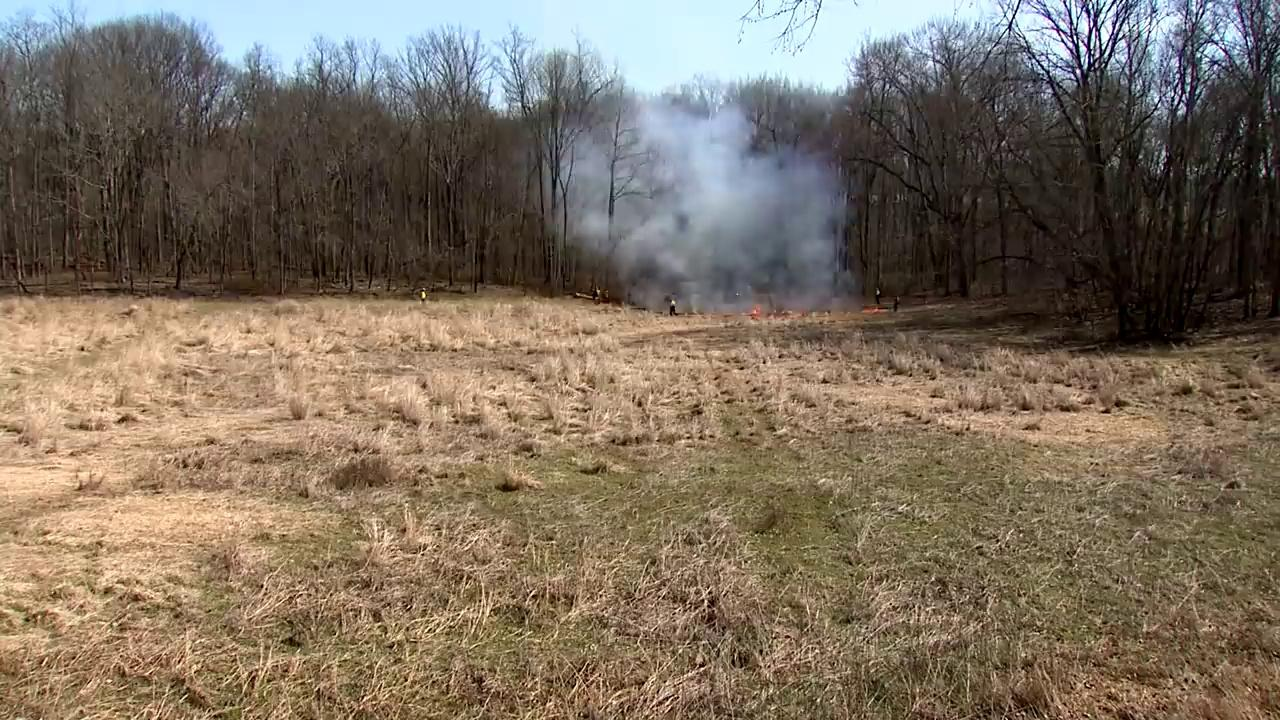Fire: (864, 305, 890, 313), (752, 303, 763, 315)
